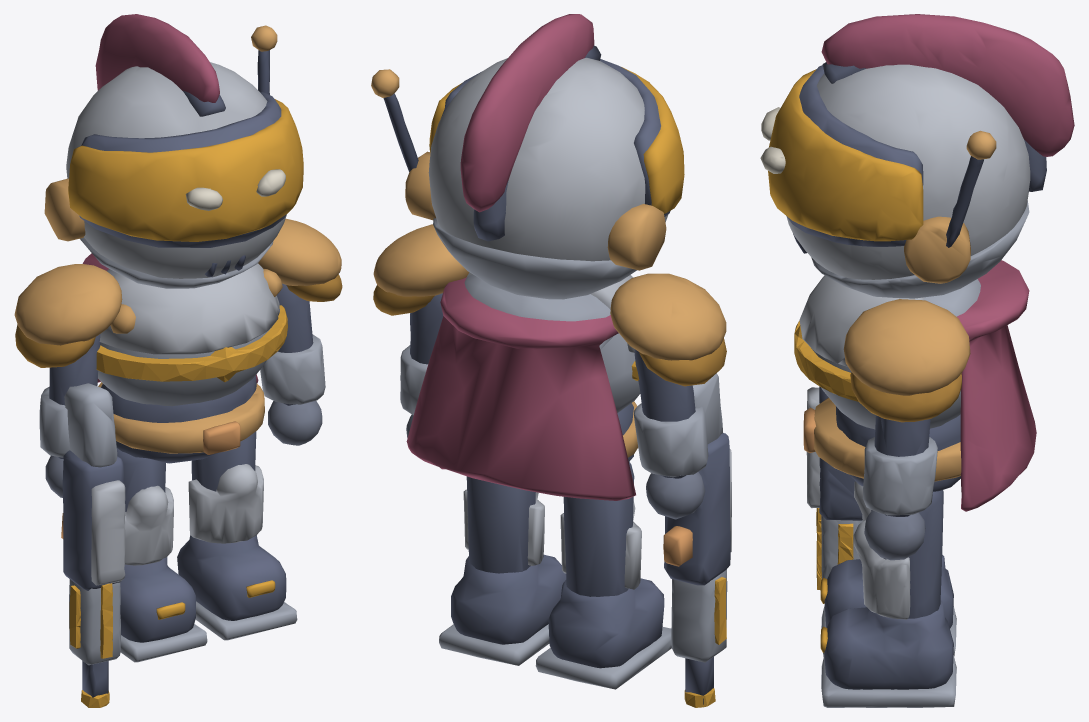
The model's file is trooper_elite.glb.
The picture shows the model from 3 angles, left to right: view 1: azimuth 30°, elevation 25°; view 2: azimuth 150°, elevation 25°; view 3: azimuth 270°, elevation 25°; orthographic projection. The views are drawn at different scales.
Visible parts, largest first — view 1: torso, head, head_glow, leg_l, gun, leg_r, arm_l, torso_glow, arm_r, gun_glow; view 2: torso, head, leg_r, leg_l, gun, arm_r, head_glow, arm_l, gun_glow; view 3: head, torso, leg_l, head_glow, arm_l, gun, leg_r, torso_glow, gun_glow.
Part boxes in pixels (x1,y1,x2,y2): torso: (14, 218, 342, 463); head: (44, 14, 286, 288); head_glow: (68, 99, 303, 241); leg_l: (177, 431, 297, 640); gun: (61, 383, 125, 697); leg_r: (116, 448, 207, 662); arm_l: (260, 283, 325, 445); torso_glow: (96, 305, 287, 382); arm_r: (39, 334, 100, 497); gun_glow: (69, 583, 112, 707); torso: (373, 224, 726, 500); head: (371, 14, 670, 299); leg_r: (535, 462, 671, 689); leg_l: (439, 476, 566, 665); gun: (663, 373, 731, 704); arm_r: (634, 349, 708, 519); head_glow: (429, 67, 684, 213); arm_l: (400, 293, 443, 437); gun_glow: (684, 577, 726, 707); head: (786, 14, 1074, 298); torso: (799, 260, 1036, 511); leg_l: (820, 490, 956, 707); head_glow: (760, 69, 923, 241); arm_l: (862, 415, 937, 560); gun: (806, 386, 862, 578); leg_r: (820, 481, 956, 656); torso_glow: (794, 320, 858, 401); gun_glow: (816, 508, 853, 590).
Size of the model in its own units: 0.698 by 1.33 by 0.5476.
